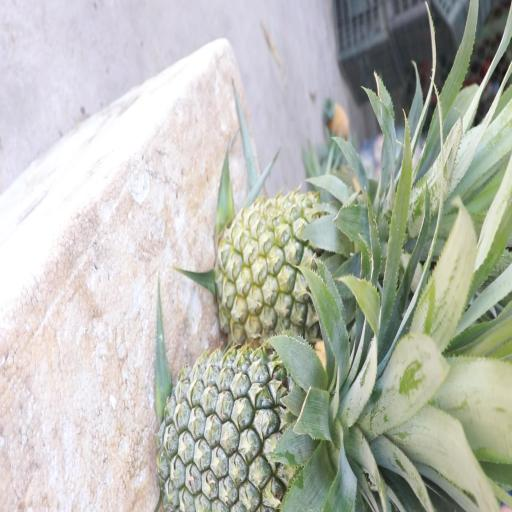Pineapple - v8 v1: (218, 180, 404, 348)
